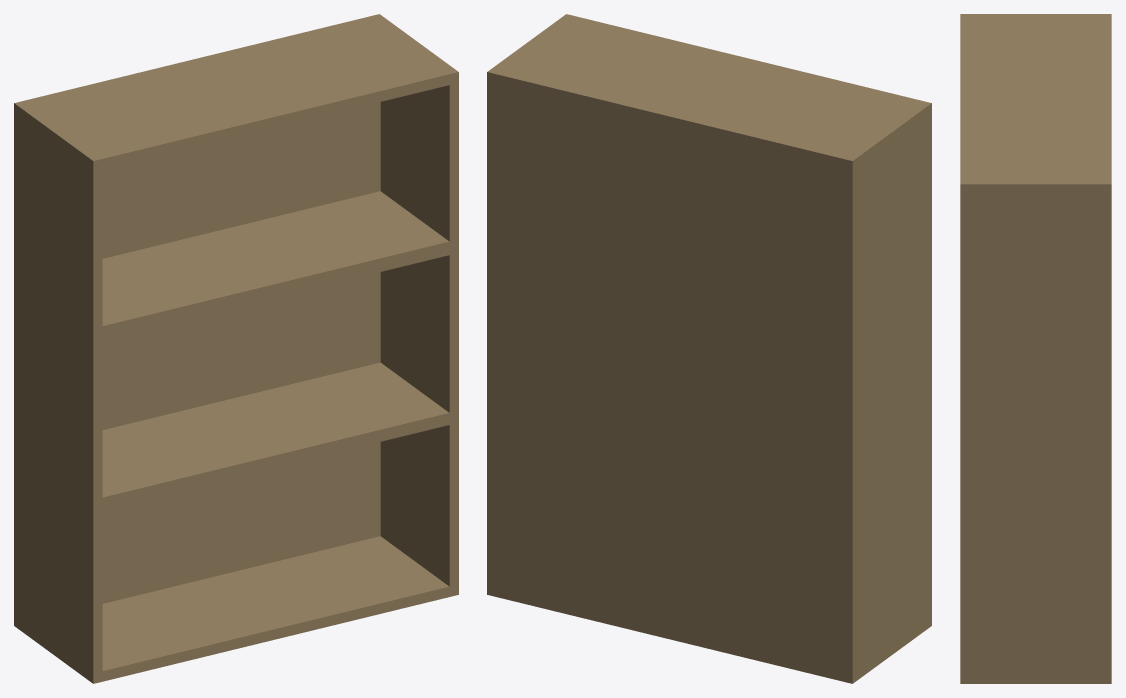
File: bookshelf.fbx
3 renders of one model, left to right at view 1: azimuth 30°, elevation 25°; view 2: azimuth 150°, elevation 25°; view 3: azimuth 270°, elevation 25°, orthographic. The views are drawn at different scales.
Parts seen in each view (by area): view 1: bookshelf; view 2: bookshelf; view 3: bookshelf.
Boxes of the visible parts, left/top/right/bottom form: bookshelf: left=14, top=14, right=458, bottom=683; bookshelf: left=487, top=14, right=931, bottom=683; bookshelf: left=960, top=14, right=1111, bottom=683.
Size of the model in its own units: 4.51 by 6.16 by 1.69.
